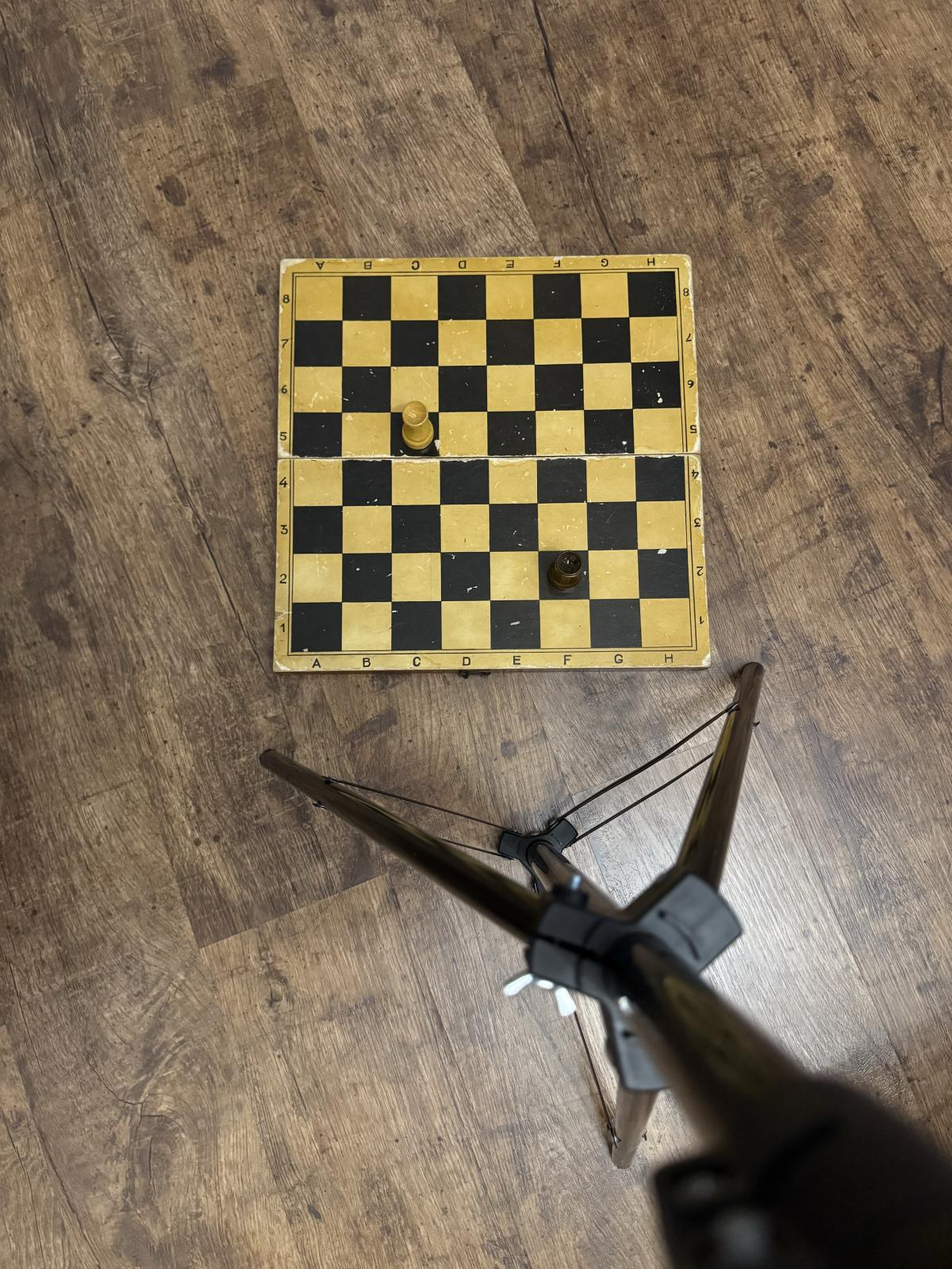Chess-Board: (292, 272, 692, 652)
